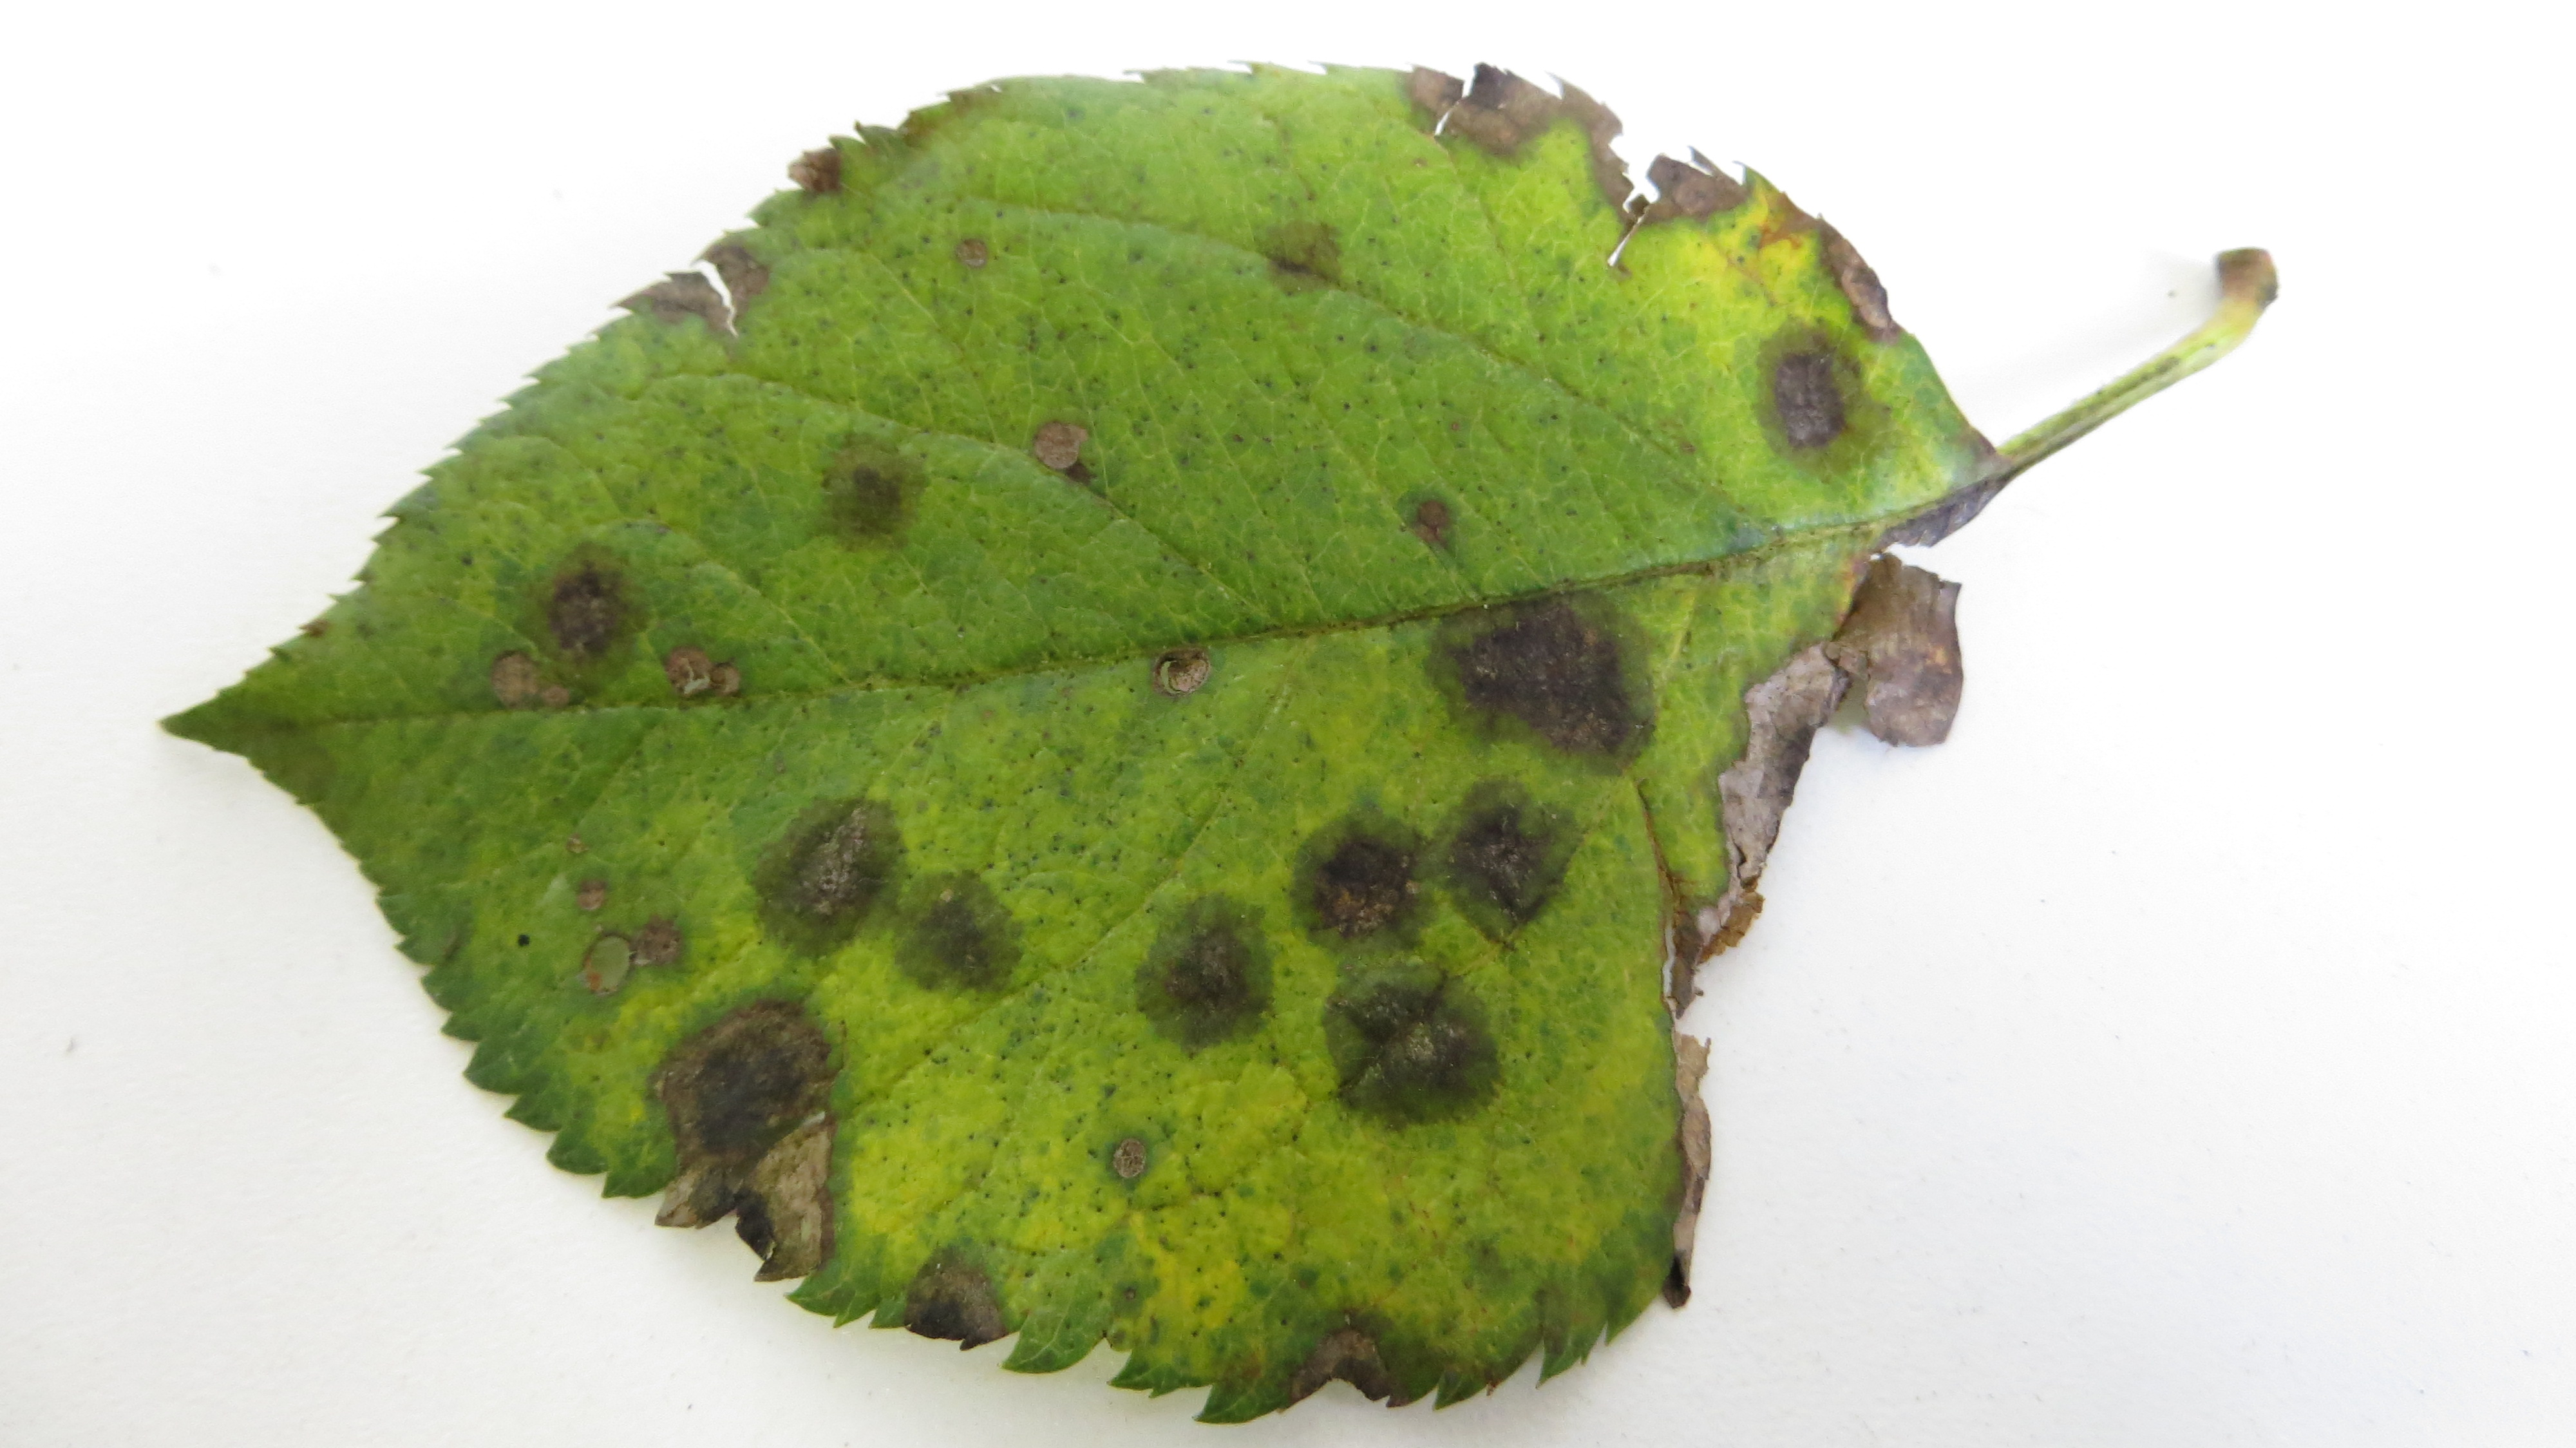sarna: (648, 991, 853, 1285), (1422, 575, 1661, 768), (750, 775, 929, 977), (1309, 959, 1490, 1135), (1284, 789, 1447, 970), (1125, 880, 1277, 1062), (1442, 763, 1582, 949), (1744, 308, 1879, 487), (895, 857, 1033, 1004), (810, 414, 936, 566), (1260, 1271, 1391, 1414), (1412, 57, 1553, 173), (628, 241, 770, 349), (892, 1241, 1016, 1361), (545, 528, 648, 673), (1760, 200, 1882, 315), (1596, 150, 1729, 255), (465, 627, 586, 733), (1253, 200, 1353, 312), (1017, 409, 1111, 494), (655, 630, 740, 720), (1136, 627, 1224, 708), (771, 127, 853, 212), (1392, 458, 1465, 549), (605, 894, 685, 970), (552, 821, 617, 913), (1092, 1112, 1150, 1182), (943, 225, 987, 269)
